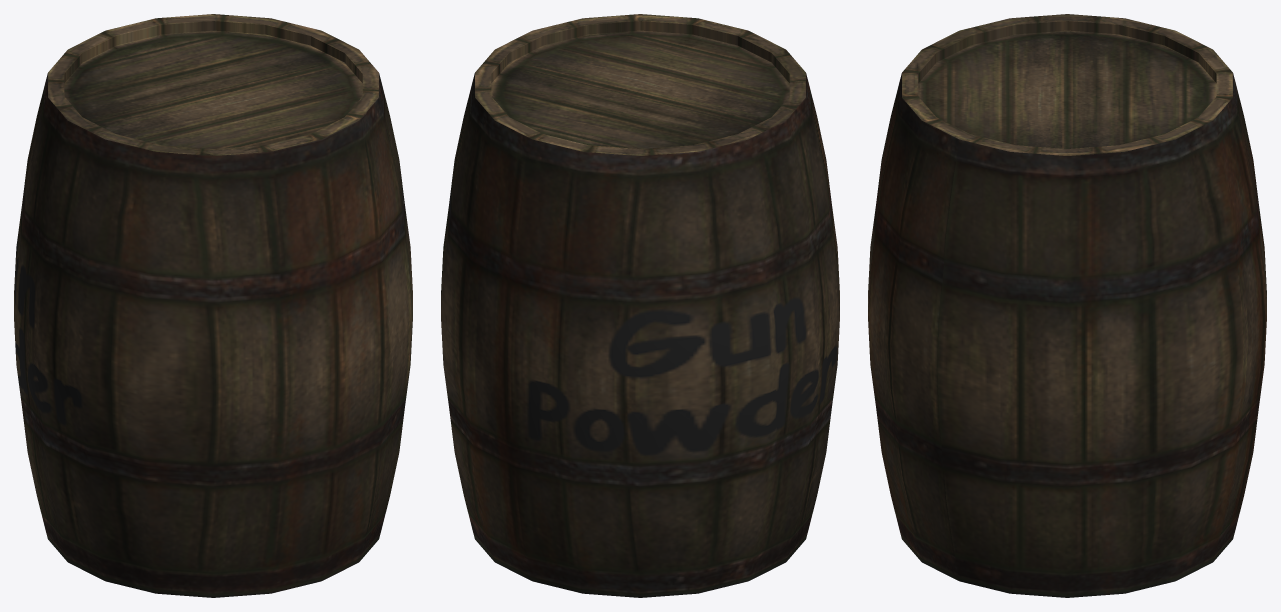
The model's file is Gun Powder Keg.FBX.
3 views of the same model, side by side, from view 1: azimuth 30°, elevation 25°; view 2: azimuth 150°, elevation 25°; view 3: azimuth 270°, elevation 25° (orthographic).
Visible parts, largest first — view 1: Cylinder001; view 2: Cylinder001; view 3: Cylinder001.
Boxes of the visible parts, x1,y1,x2,y2 form: Cylinder001: (14,14,412,597); Cylinder001: (441,14,839,597); Cylinder001: (868,14,1266,597).
Bounding box in the file's own units: 39.24 × 47.24 × 38.64.
1 material, 1 textured.
